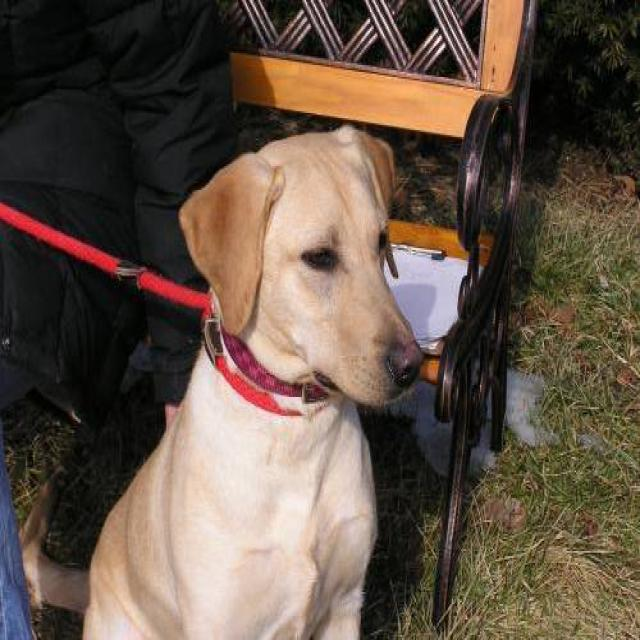dog: (16, 121, 424, 638)
